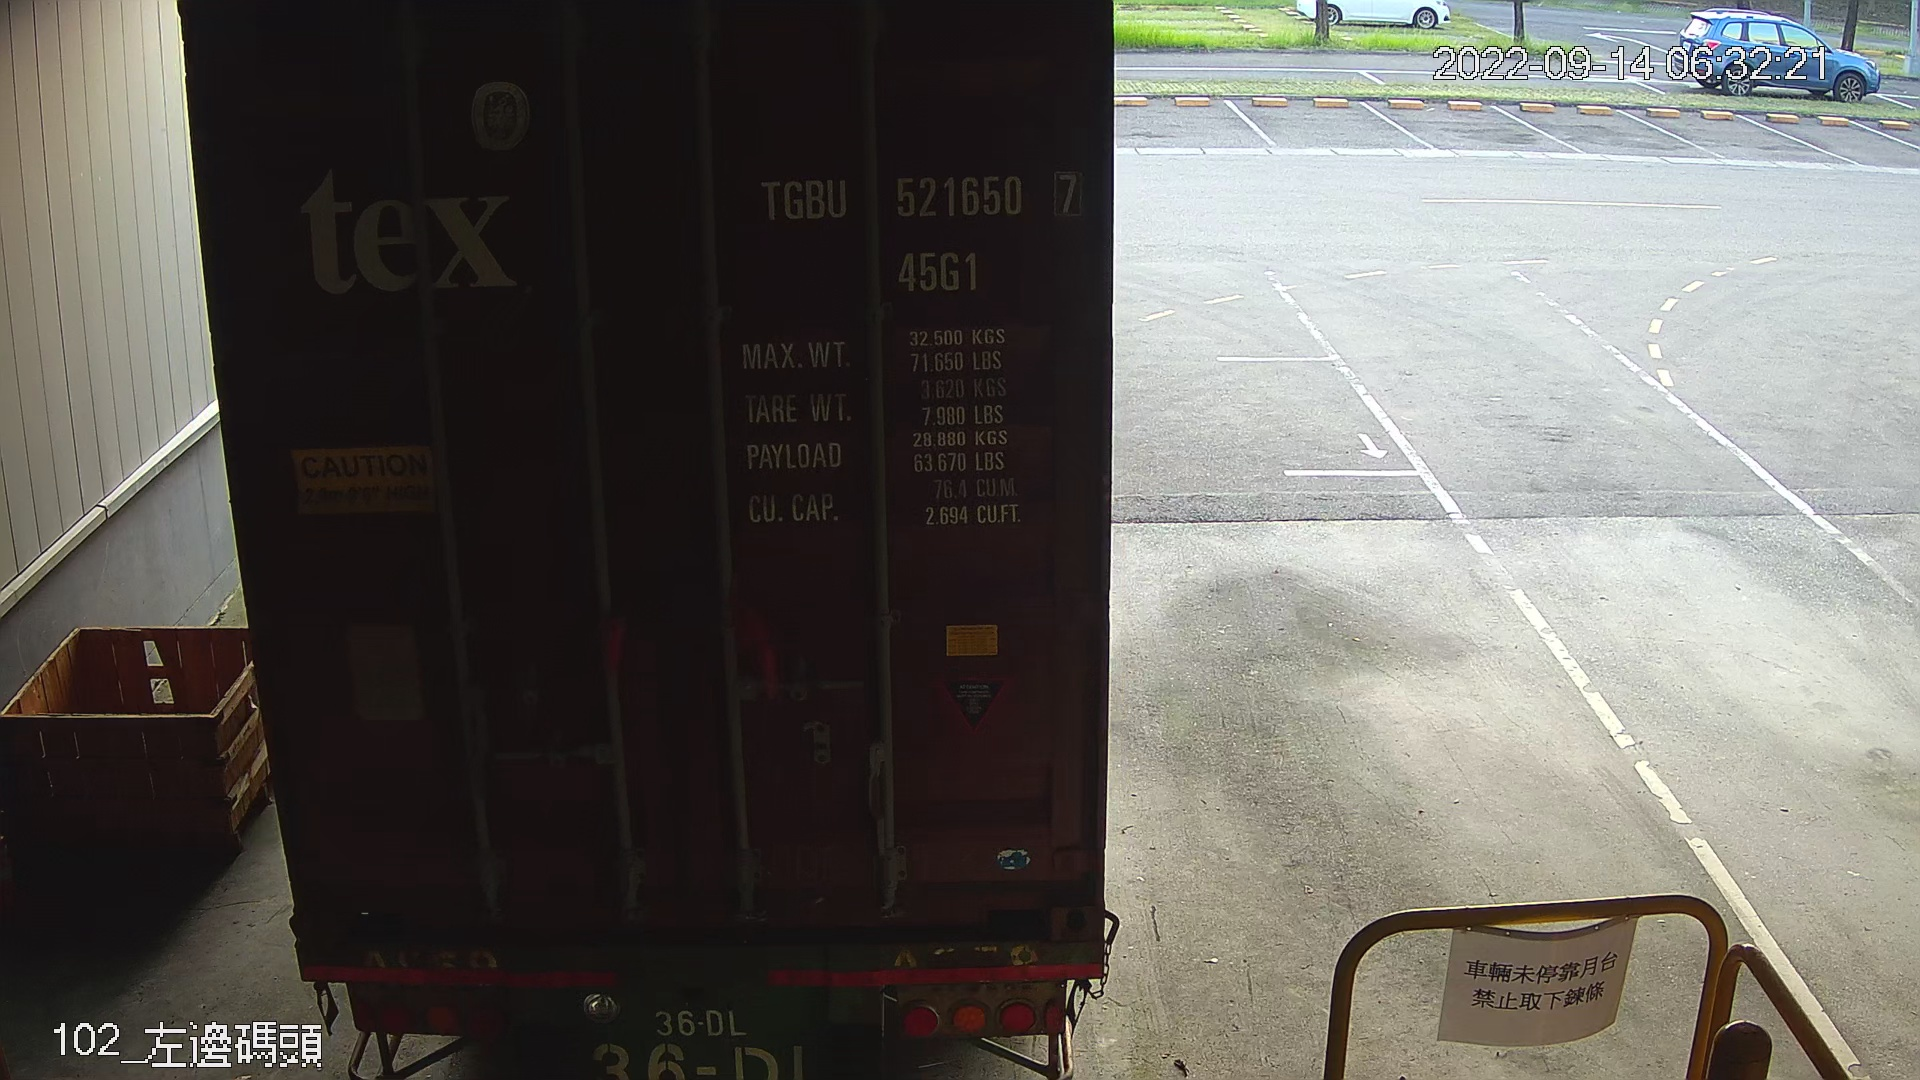container: (745, 161, 1092, 305)
